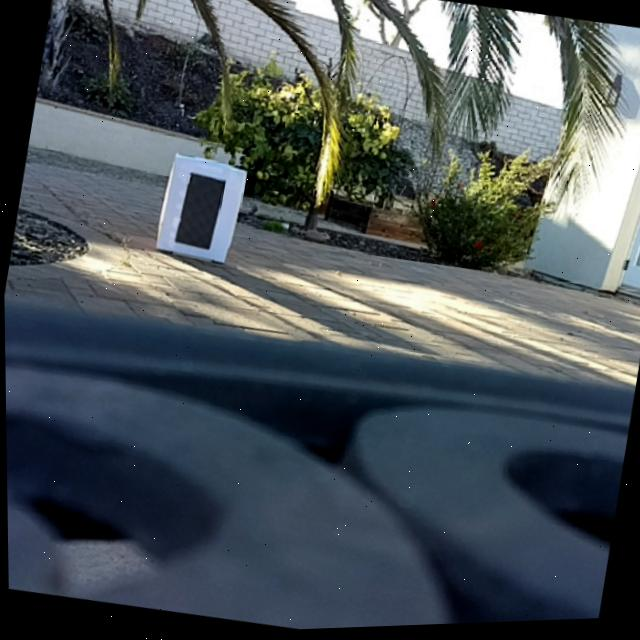led: (174, 173, 225, 252)
